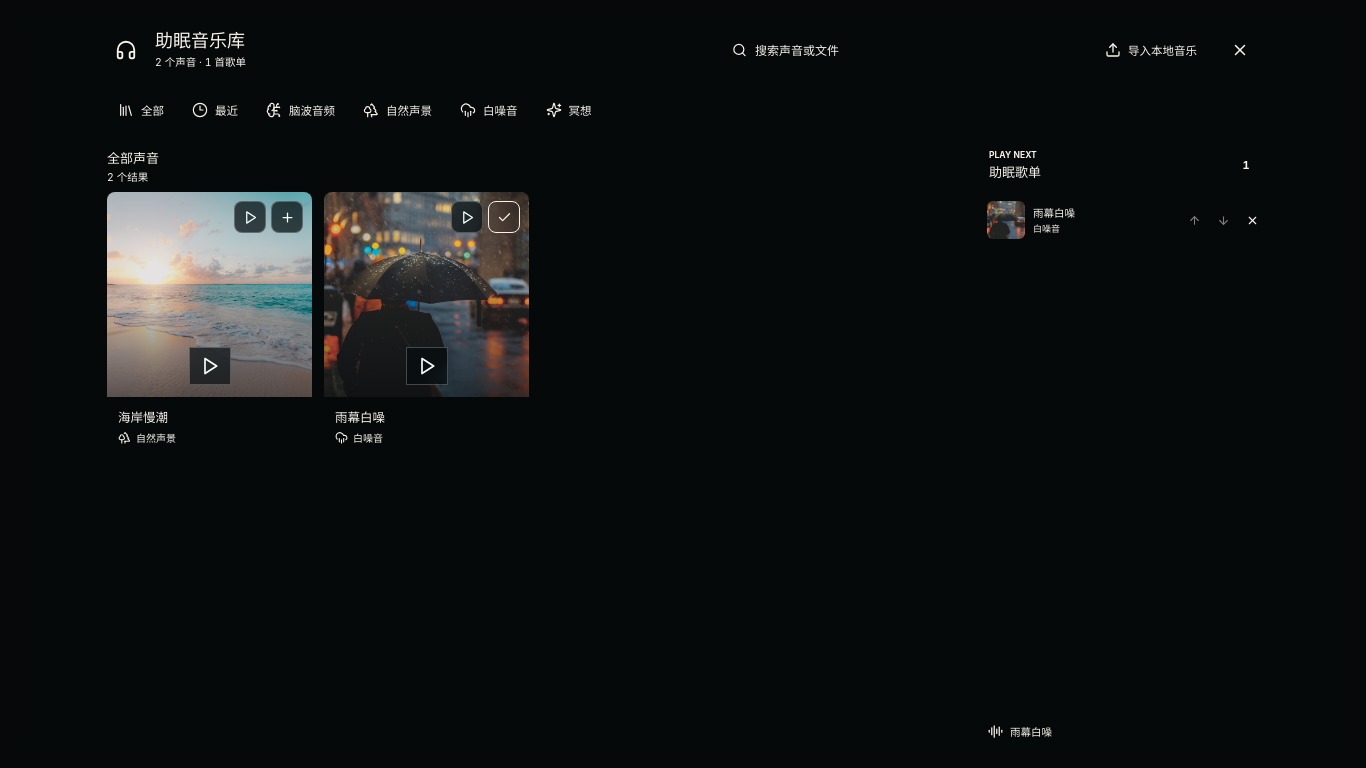
MusicLibraryModal › adds and selects a track from the visual library
Click the button with aria-label "加入歌单并选择 海岸慢潮" at (210, 324), box [107,192,312,456]
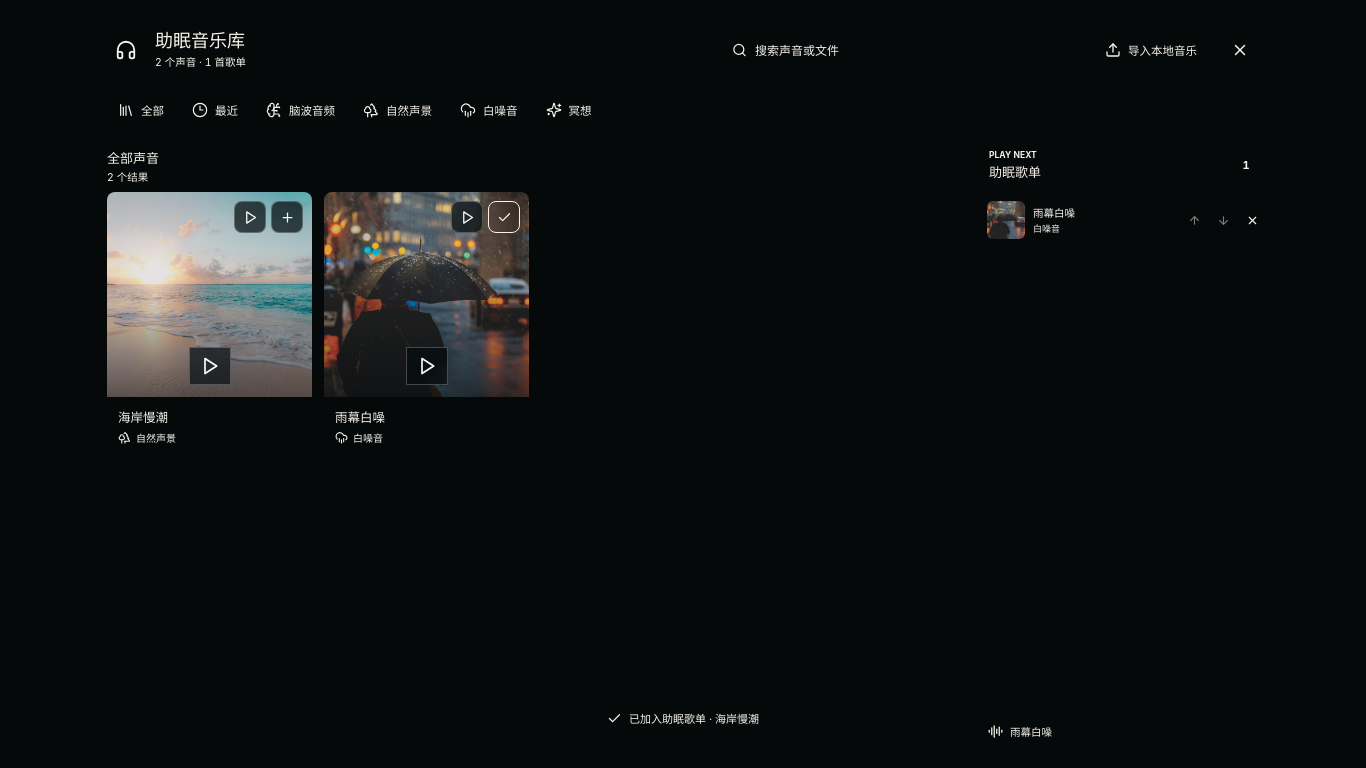
Expected: the message shows "已加入助眠歌单", [629,712,759,726]
